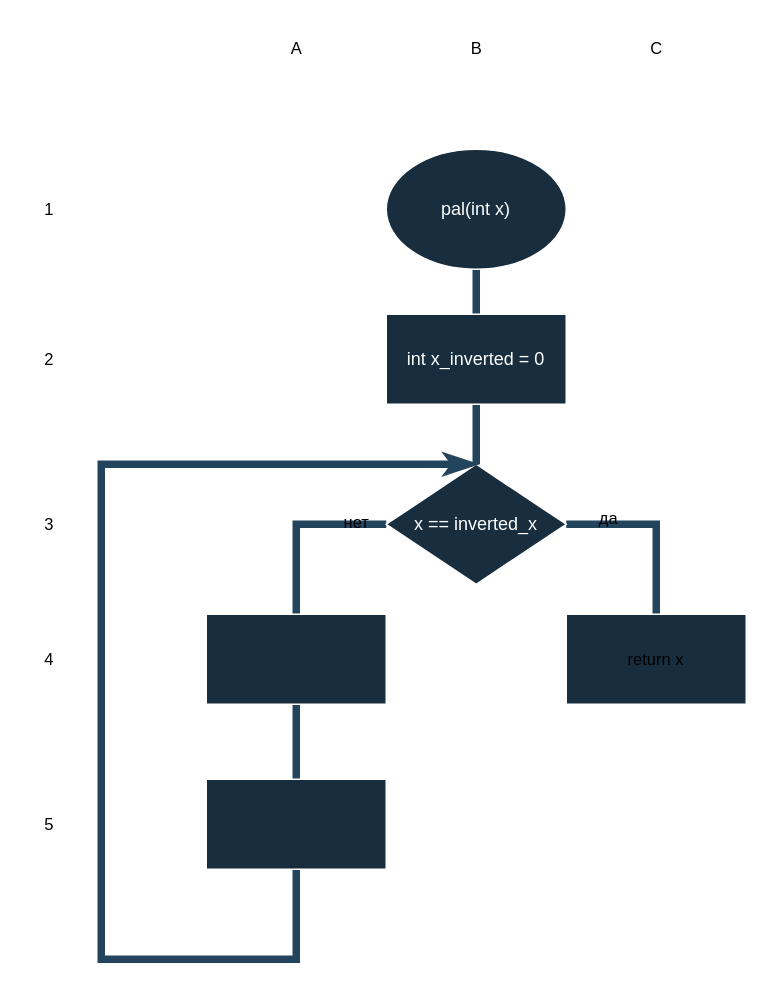
Some shapes in this 773 by 1001 pixel diagram are drawn without their labels. Each missing label, with the box of its shape:
x = x + x_inverted: (205, 613, 386, 704)
x_inverted = invert(x): (205, 778, 386, 869)
